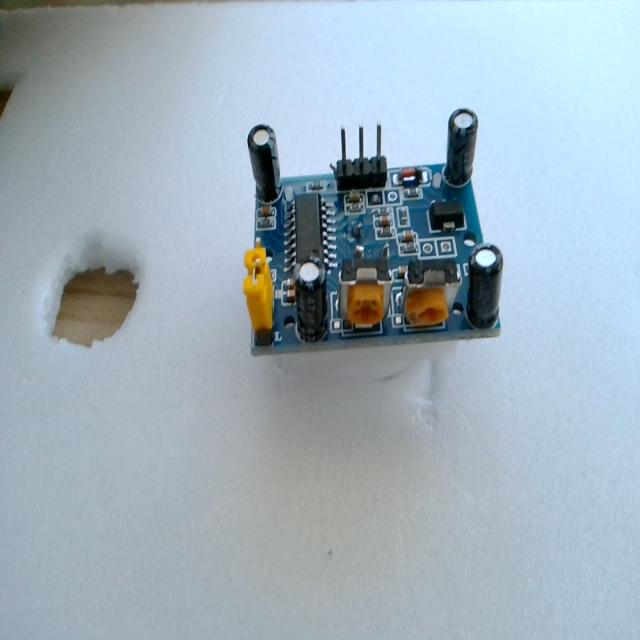Electrolytic capacitor: (466, 244, 504, 329), (293, 258, 328, 340), (444, 107, 479, 188), (247, 123, 282, 204)
IC: (293, 192, 323, 270)
